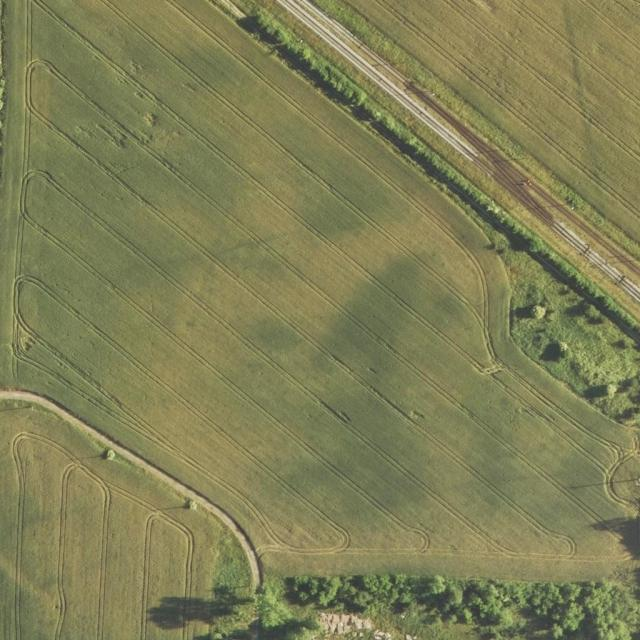agricultural_land: (0, 405, 230, 640)
greenland: (219, 587, 640, 640)
